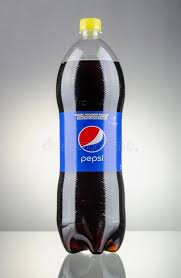pepsi_bottle: (57, 17, 127, 256)
